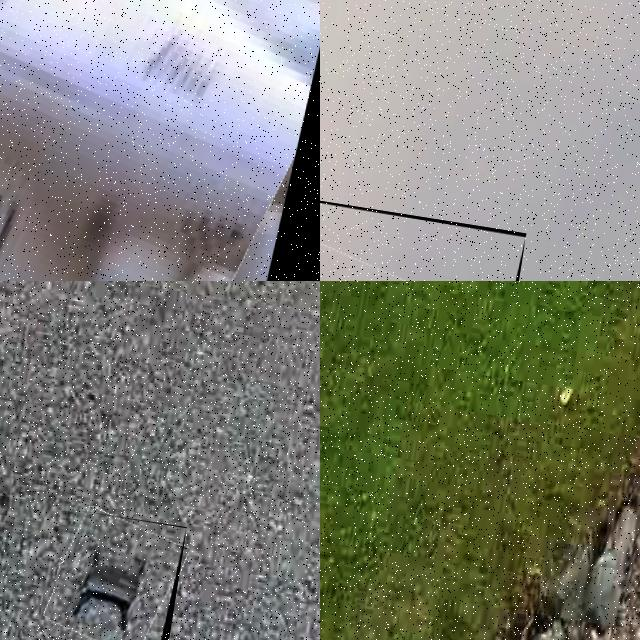drone: (0, 0, 320, 281), (320, 156, 526, 281), (47, 508, 187, 640)
